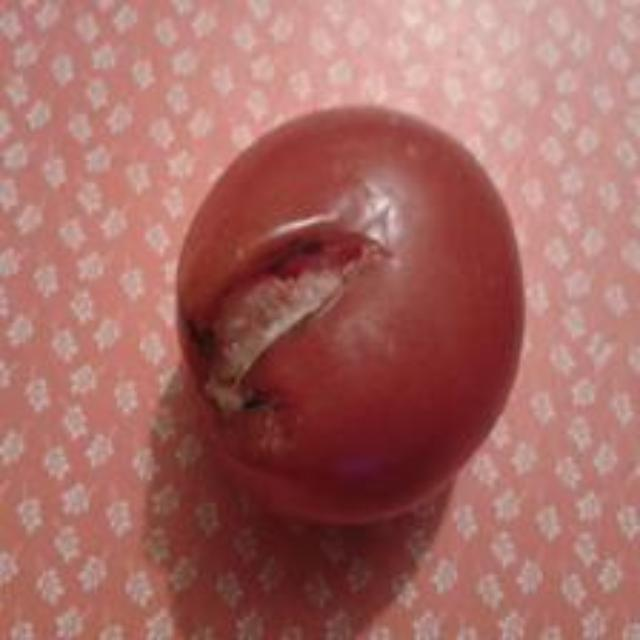defect: (171, 101, 524, 529)
